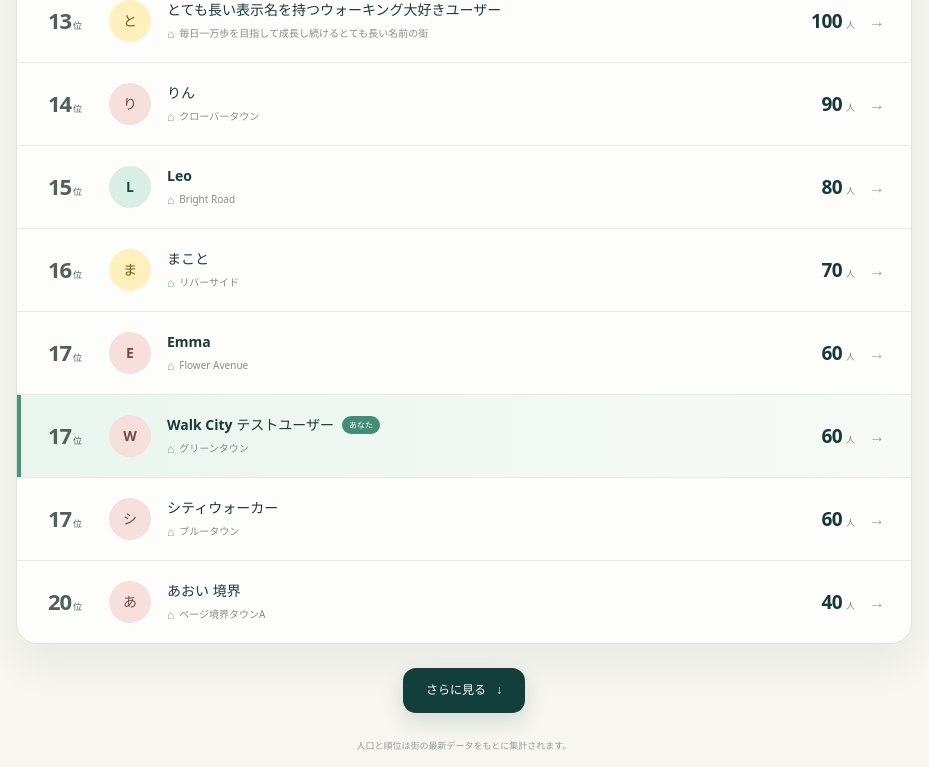
Test: PopulationRanking › loads the remaining entries and announces completion
(page scrolled)
Click the button "さらに見る ↓" at coordinates (464, 690), box [403, 668, 525, 713]
(page scrolled)
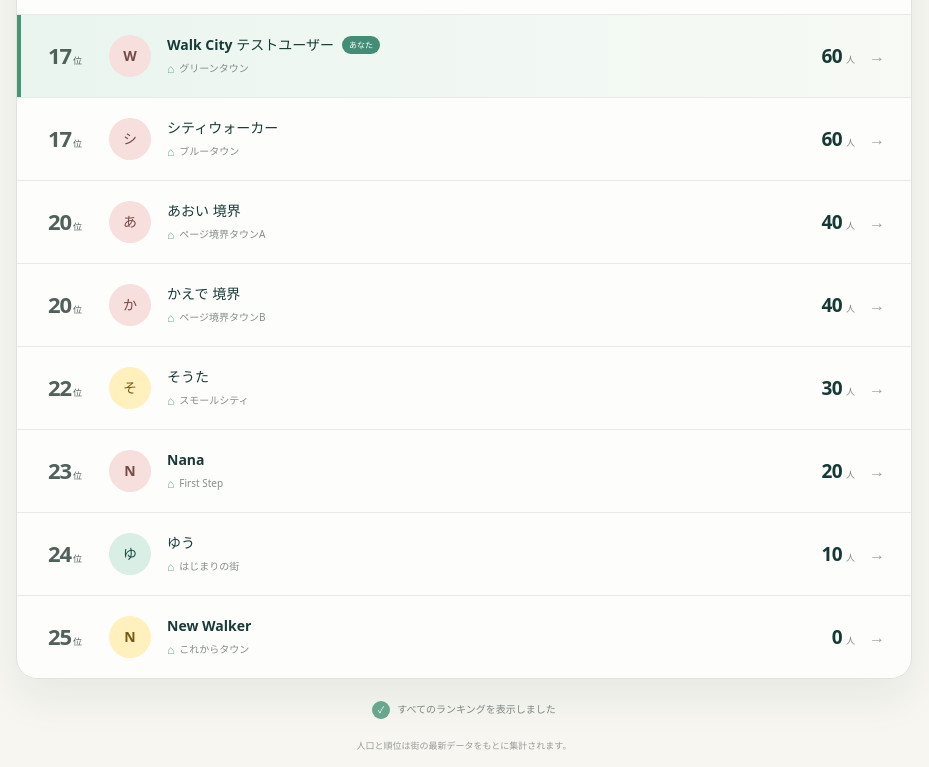
Now the text "すべてのランキングを表示しました" is shown, box [397, 702, 556, 716]
